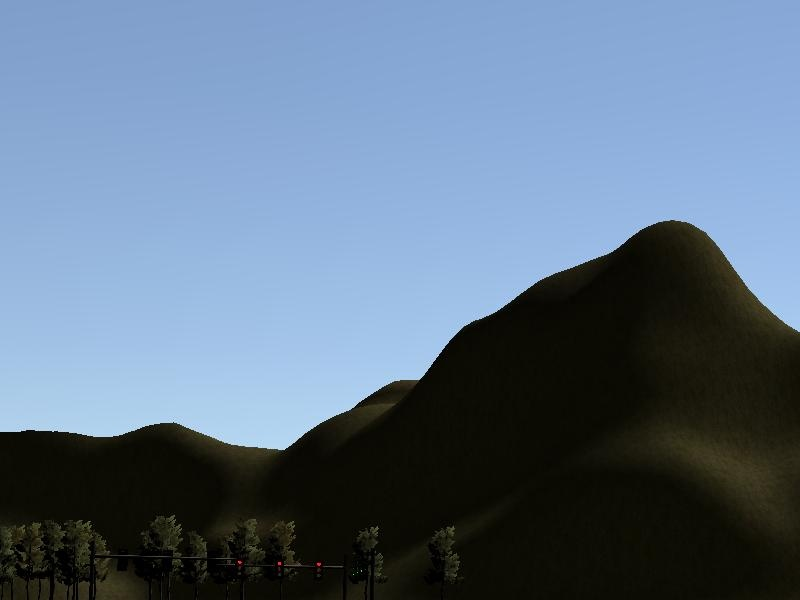RED: (234, 555, 245, 580), (274, 559, 285, 582), (314, 559, 325, 581)
